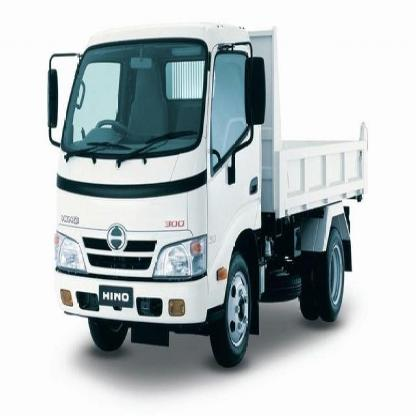dump_truck: (43, 10, 379, 382)
